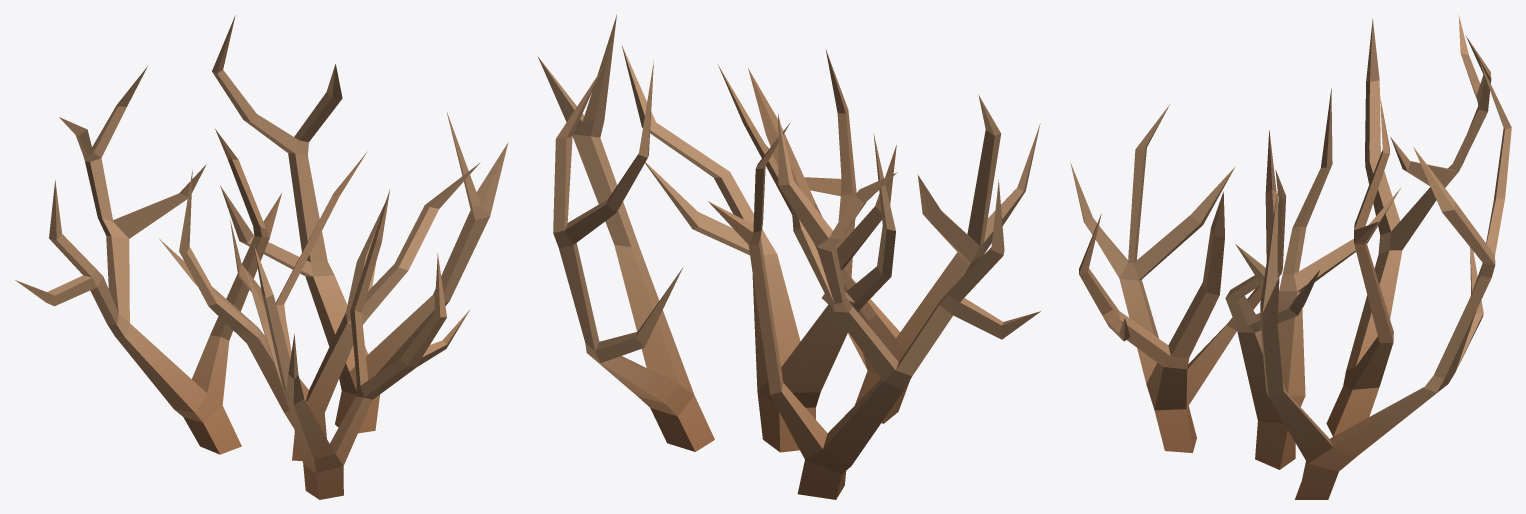
Rendered from grassland_bush_5.fbx.
3 renders of one model, left to right at view 1: azimuth 30°, elevation 25°; view 2: azimuth 150°, elevation 25°; view 3: azimuth 270°, elevation 25°, orthographic. The views are drawn at different scales.
Parts seen in each view (by area): view 1: Bush_average_bare; view 2: Bush_average_bare; view 3: Bush_average_bare.
Boxes of the visible parts, bbox=[...] form: Bush_average_bare: bbox=[15, 15, 508, 499]; Bush_average_bare: bbox=[538, 15, 1040, 499]; Bush_average_bare: bbox=[1070, 15, 1511, 499].
Bounding box in the file's own units: 426 × 336 × 328.
1 material, 1 textured.
